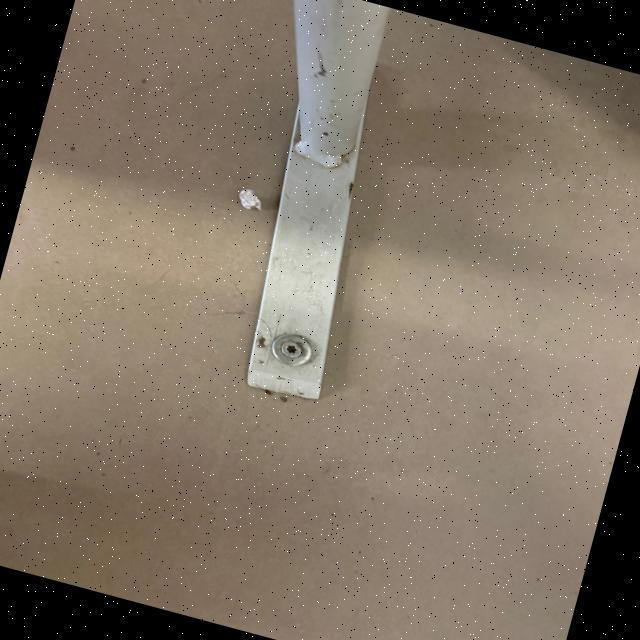Torx: (266, 331, 314, 368)
